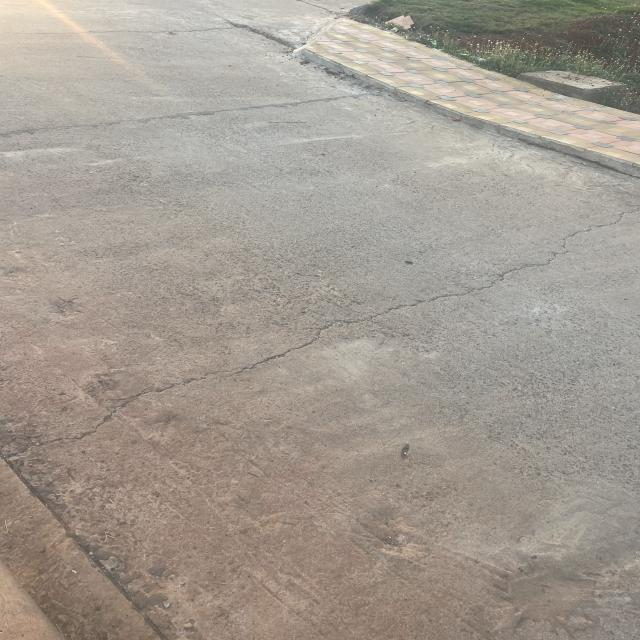D43: (69, 191, 624, 498)
